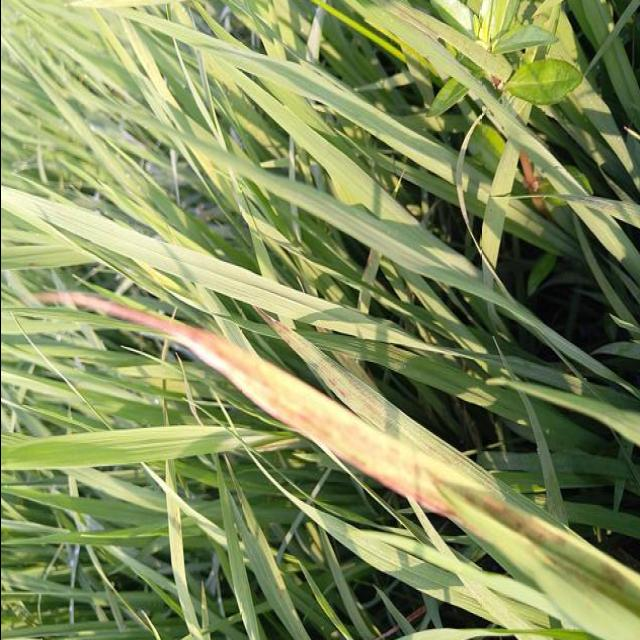Leaf Blight: (36, 292, 620, 578), (254, 306, 407, 440)
